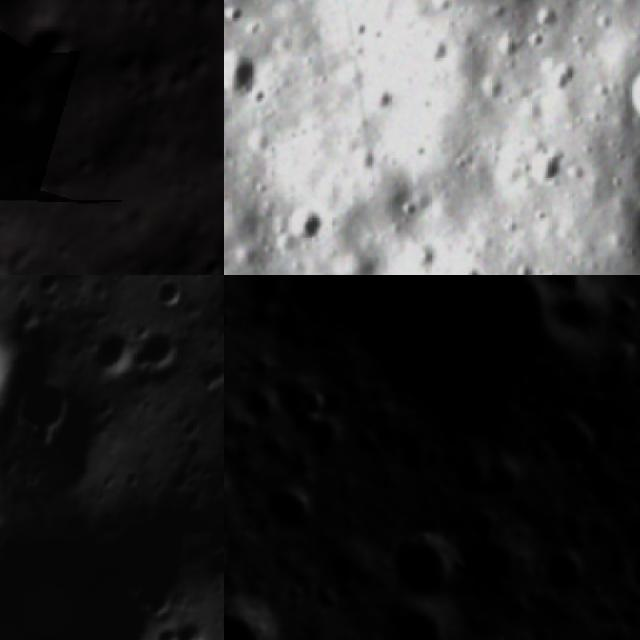crater: (239, 275, 610, 493), (376, 506, 482, 619), (8, 355, 92, 444), (526, 399, 610, 484), (21, 18, 92, 89), (548, 282, 620, 351), (258, 469, 324, 543), (536, 534, 598, 605), (367, 591, 455, 640), (75, 319, 139, 386), (224, 586, 300, 640), (317, 531, 377, 597), (128, 320, 188, 381), (0, 33, 47, 110), (482, 450, 541, 510), (239, 375, 295, 431), (448, 443, 502, 500), (142, 600, 217, 640), (520, 140, 571, 195), (276, 204, 328, 256), (224, 46, 267, 103), (588, 468, 640, 514), (138, 275, 190, 316), (510, 383, 553, 420), (618, 65, 640, 137), (295, 379, 330, 420), (536, 275, 607, 294), (0, 236, 31, 275), (224, 294, 250, 337), (224, 526, 242, 584), (625, 544, 640, 598), (444, 257, 484, 275)
